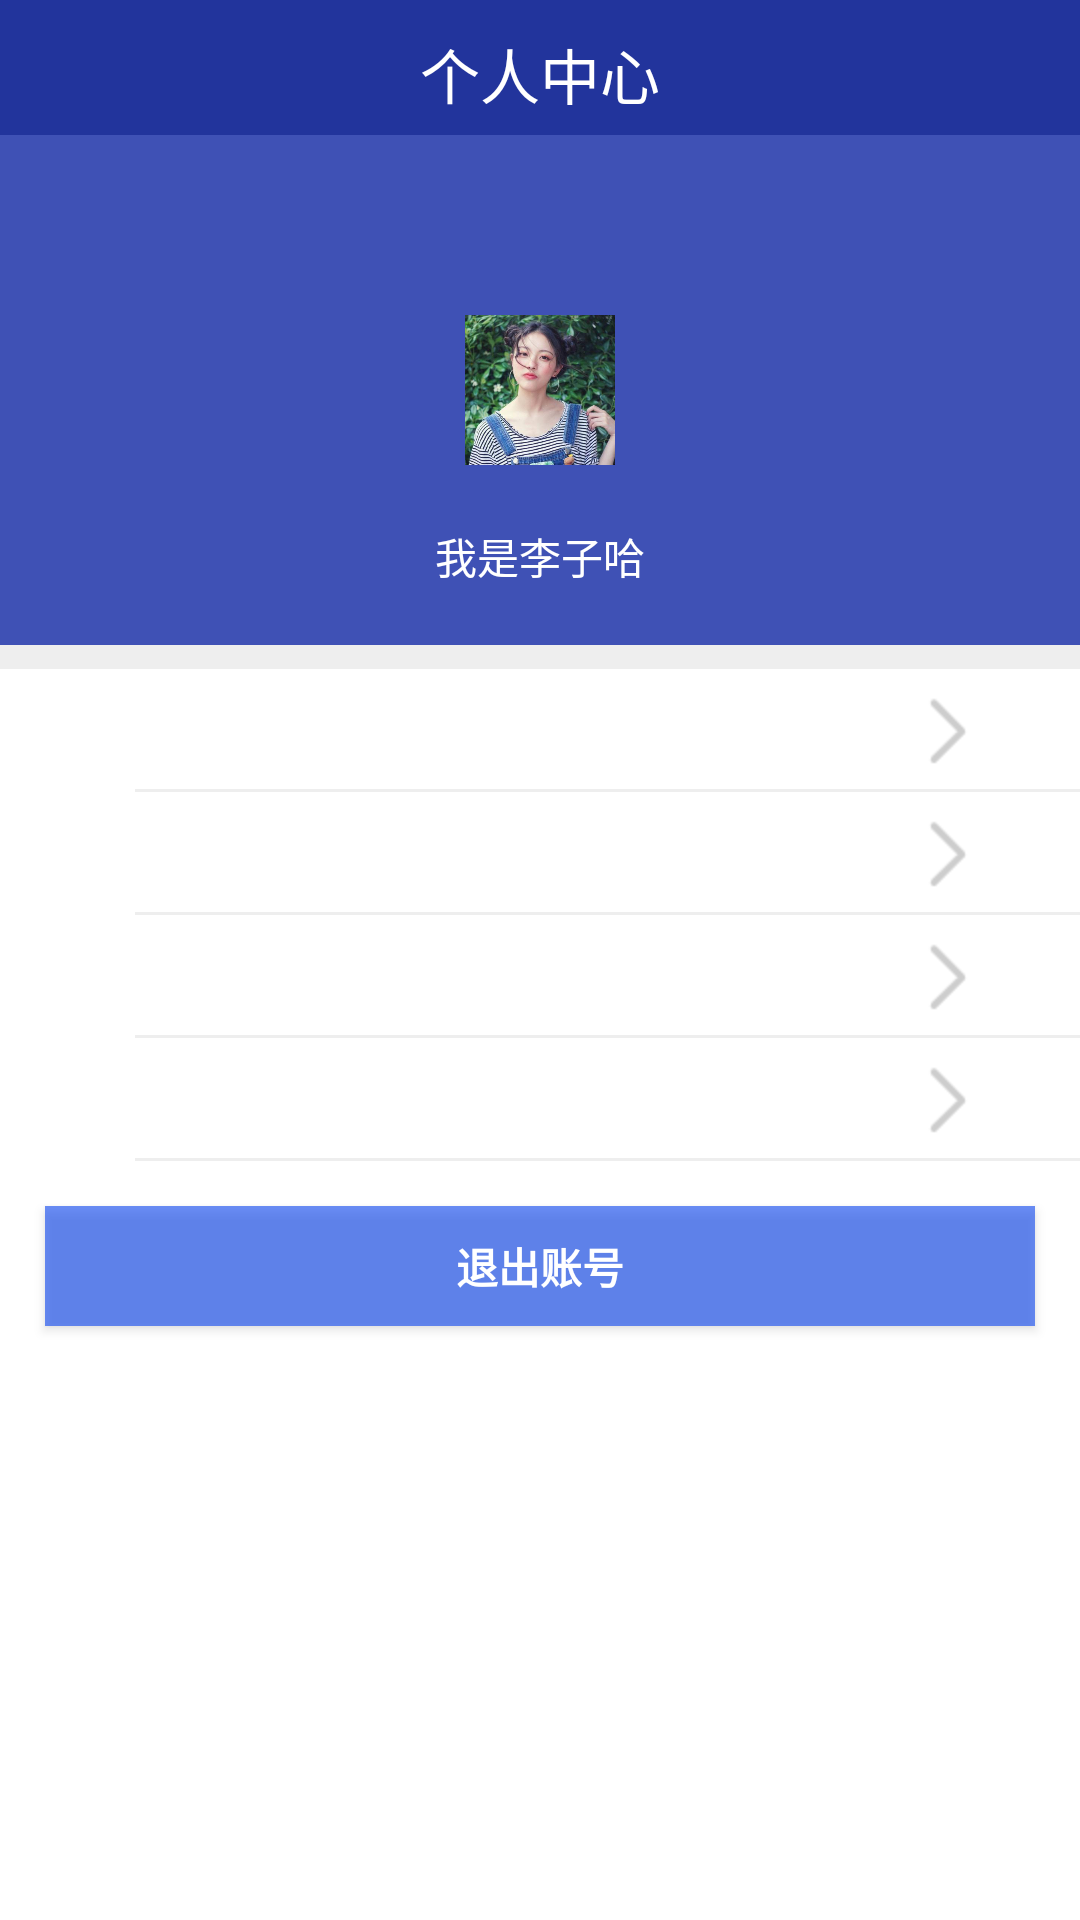

Named icons in this screenshot (1080×1920) and their centers, point (x, y):
home arrow right: point (948, 731), point (948, 854), point (948, 977), point (948, 1100)
